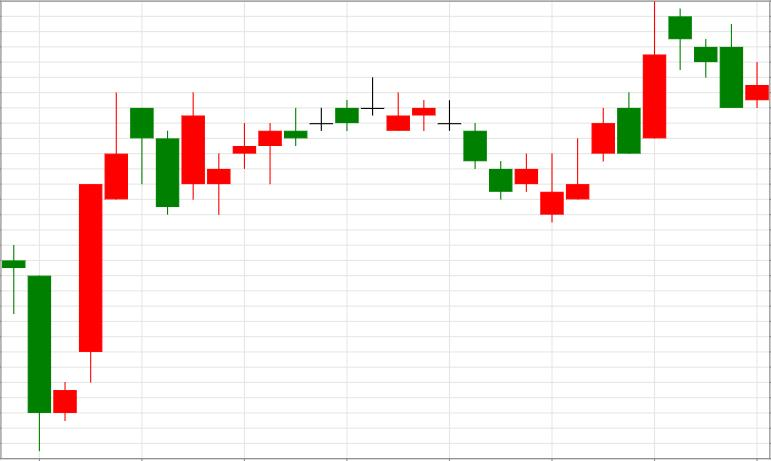hanging_man_fall: (28, 93, 153, 450)
